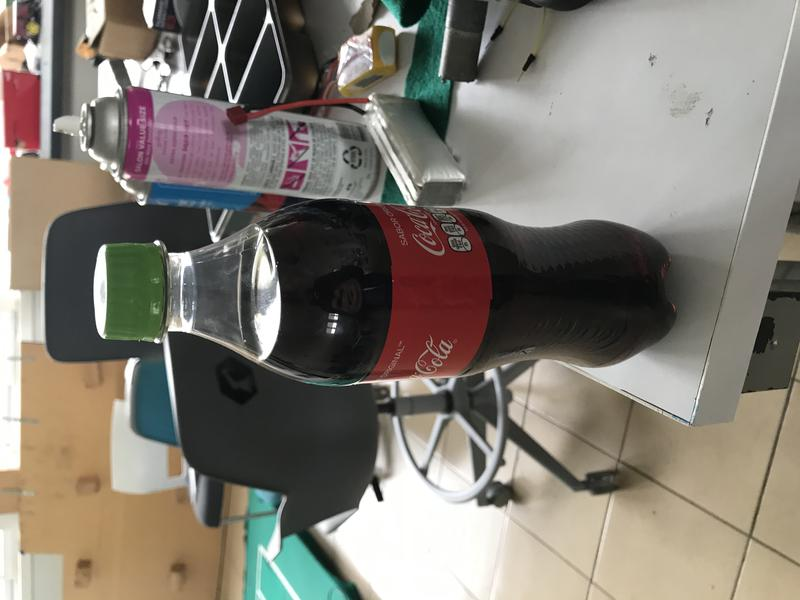coca_cola: (93, 198, 677, 388)
